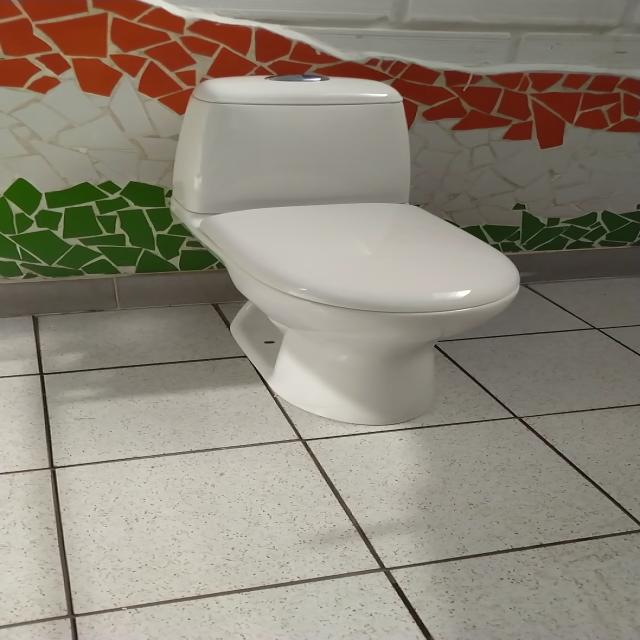toilet: (168, 73, 521, 426)
